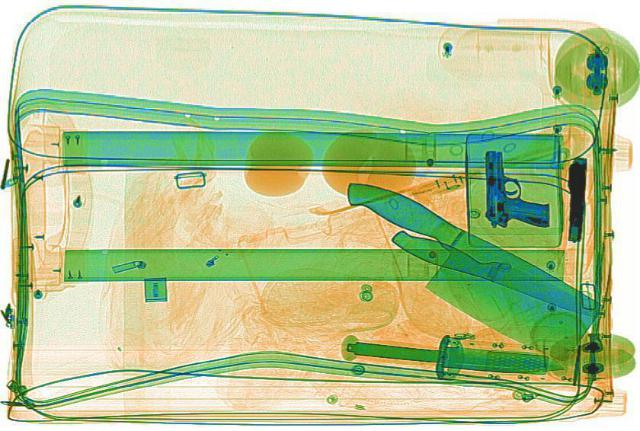Gun: (480, 148, 550, 227), (559, 157, 589, 240)
Knife: (292, 173, 630, 364), (382, 224, 612, 323), (348, 336, 564, 376)
